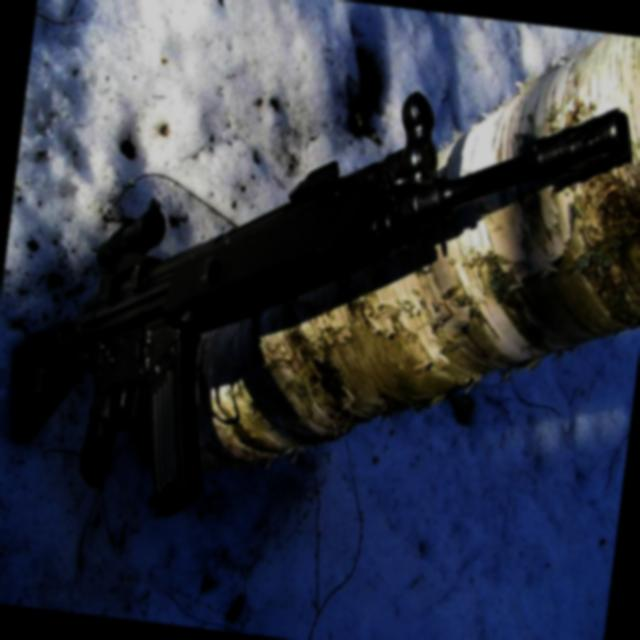m16: (0, 0, 640, 612)
